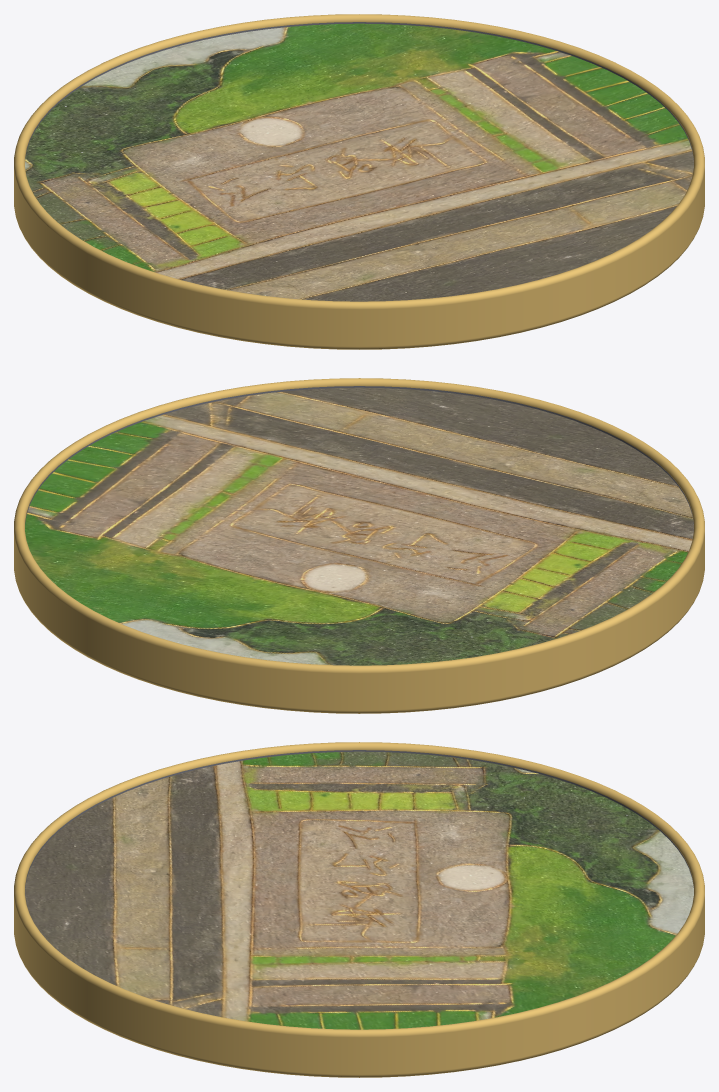
Rendered from 江宁路桥.glb.
3 views of the same model, one above another, from view 1: azimuth 30°, elevation 25°; view 2: azimuth 150°, elevation 25°; view 3: azimuth 270°, elevation 25° (orthographic).
Parts seen in each view (by area): view 1: Mesh_1, Mesh_2, Mesh_0; view 2: Mesh_1, Mesh_2, Mesh_0; view 3: Mesh_1, Mesh_2, Mesh_0.
Part boxes in pixels (<box>): Mesh_1: <box>25,23,693,301</box>; Mesh_2: <box>14,14,704,349</box>; Mesh_0: <box>25,22,693,159</box>; Mesh_1: <box>25,387,693,665</box>; Mesh_2: <box>14,378,704,713</box>; Mesh_0: <box>25,386,693,523</box>; Mesh_1: <box>25,751,693,1029</box>; Mesh_2: <box>14,742,704,1077</box>; Mesh_0: <box>25,750,693,887</box>.
Bounding box in the file's own units: 0.186 × 0.014 × 0.1859.
3 materials, 1 textured.
